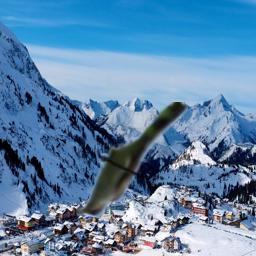Cuckoo: (77, 102, 188, 218)
